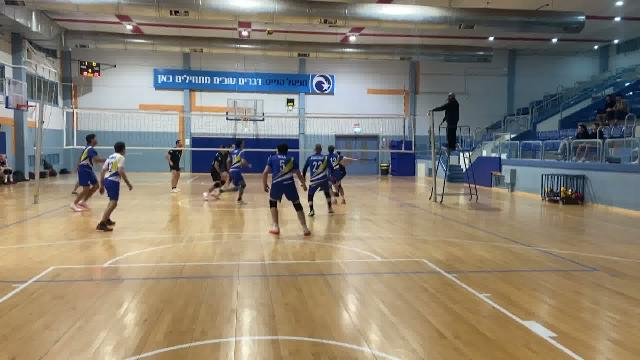ball: (263, 27, 275, 36)
